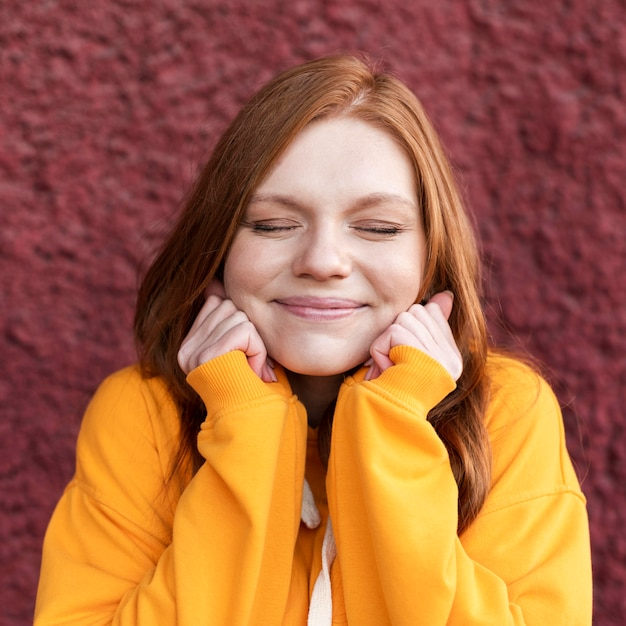teen: (140, 41, 480, 421)
